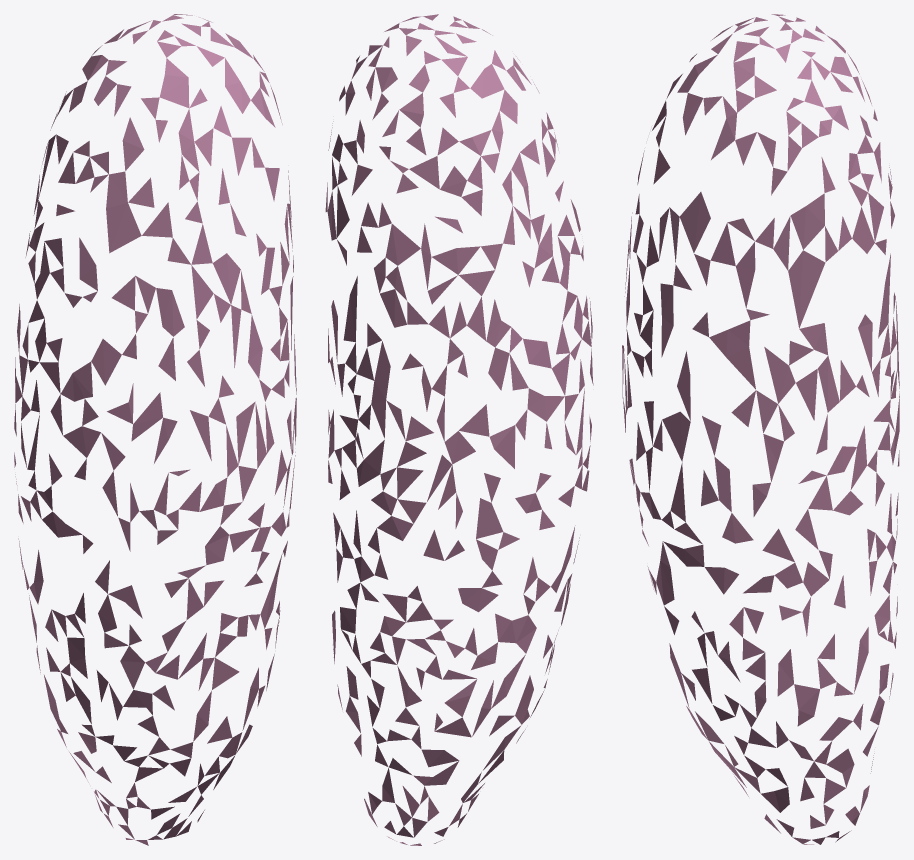
Rendered from food_produce_cucumber_e01.glb.
3 renders of one model, left to right at view 1: azimuth 30°, elevation 25°; view 2: azimuth 150°, elevation 25°; view 3: azimuth 270°, elevation 25°, orthographic. The views are drawn at different scales.
Parts seen in each view (by area): view 1: geometry_0; view 2: geometry_0; view 3: geometry_0.
Boxes of the visible parts, x1,y1,x2,y2 form: geometry_0: (14,14,296,845); geometry_0: (325,14,593,845); geometry_0: (622,14,899,844).
Size of the model in its own units: 0.1458 by 0.48 by 0.1478.
